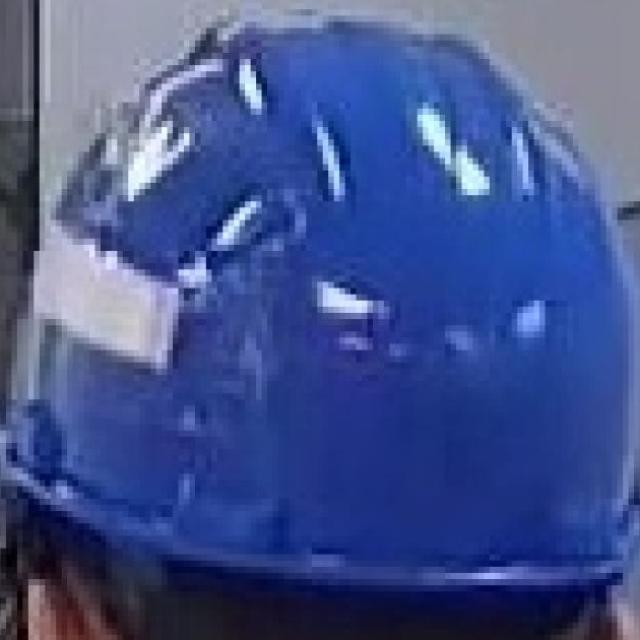helmet: (11, 13, 640, 589)
